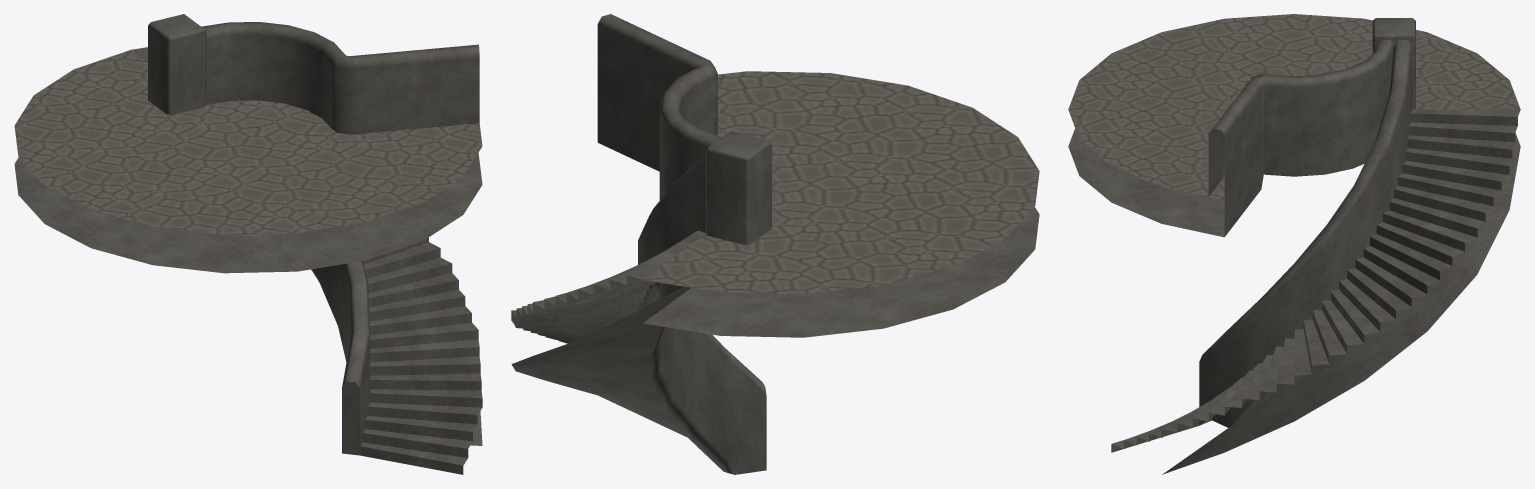
File: Tower_Stairs.fbx
The picture shows the model from 3 angles, left to right: view 1: azimuth 30°, elevation 25°; view 2: azimuth 150°, elevation 25°; view 3: azimuth 270°, elevation 25°; orthographic projection. The views are drawn at different scales.
Parts seen in each view (by area): view 1: Tower_Stairs; view 2: Tower_Stairs; view 3: Tower_Stairs.
Part boxes in pixels (left/top/right/bottom): Tower_Stairs: left=14, top=14, right=482, bottom=474; Tower_Stairs: left=511, top=14, right=1039, bottom=474; Tower_Stairs: left=1068, top=14, right=1520, bottom=474.
Bounding box in the file's own units: 50 × 44.23 × 50.
